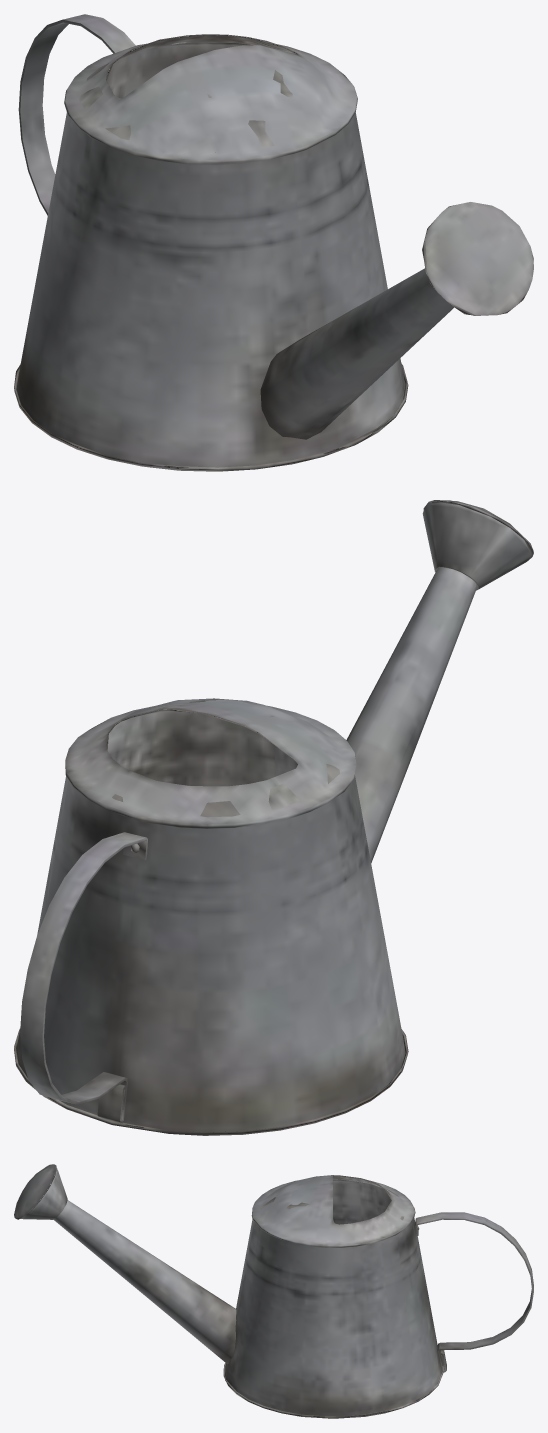
The model's file is watering_can_metal_01.l.cbbd268c.glb.
3 views of the same model, one above another, from view 1: azimuth 30°, elevation 25°; view 2: azimuth 150°, elevation 25°; view 3: azimuth 270°, elevation 25° (orthographic). The views are drawn at different scales.
Parts seen in each view (by area): view 1: watering_can_metal_01; view 2: watering_can_metal_01; view 3: watering_can_metal_01.
Boxes of the visible parts, left/top/right/bottom form: watering_can_metal_01: left=14, top=14, right=533, bottom=471; watering_can_metal_01: left=14, top=500, right=533, bottom=1135; watering_can_metal_01: left=14, top=1164, right=533, bottom=1418.
Size of the model in its own units: 0.1908 by 0.196 by 0.4521.
Materials: 1 (1 with a texture image).
